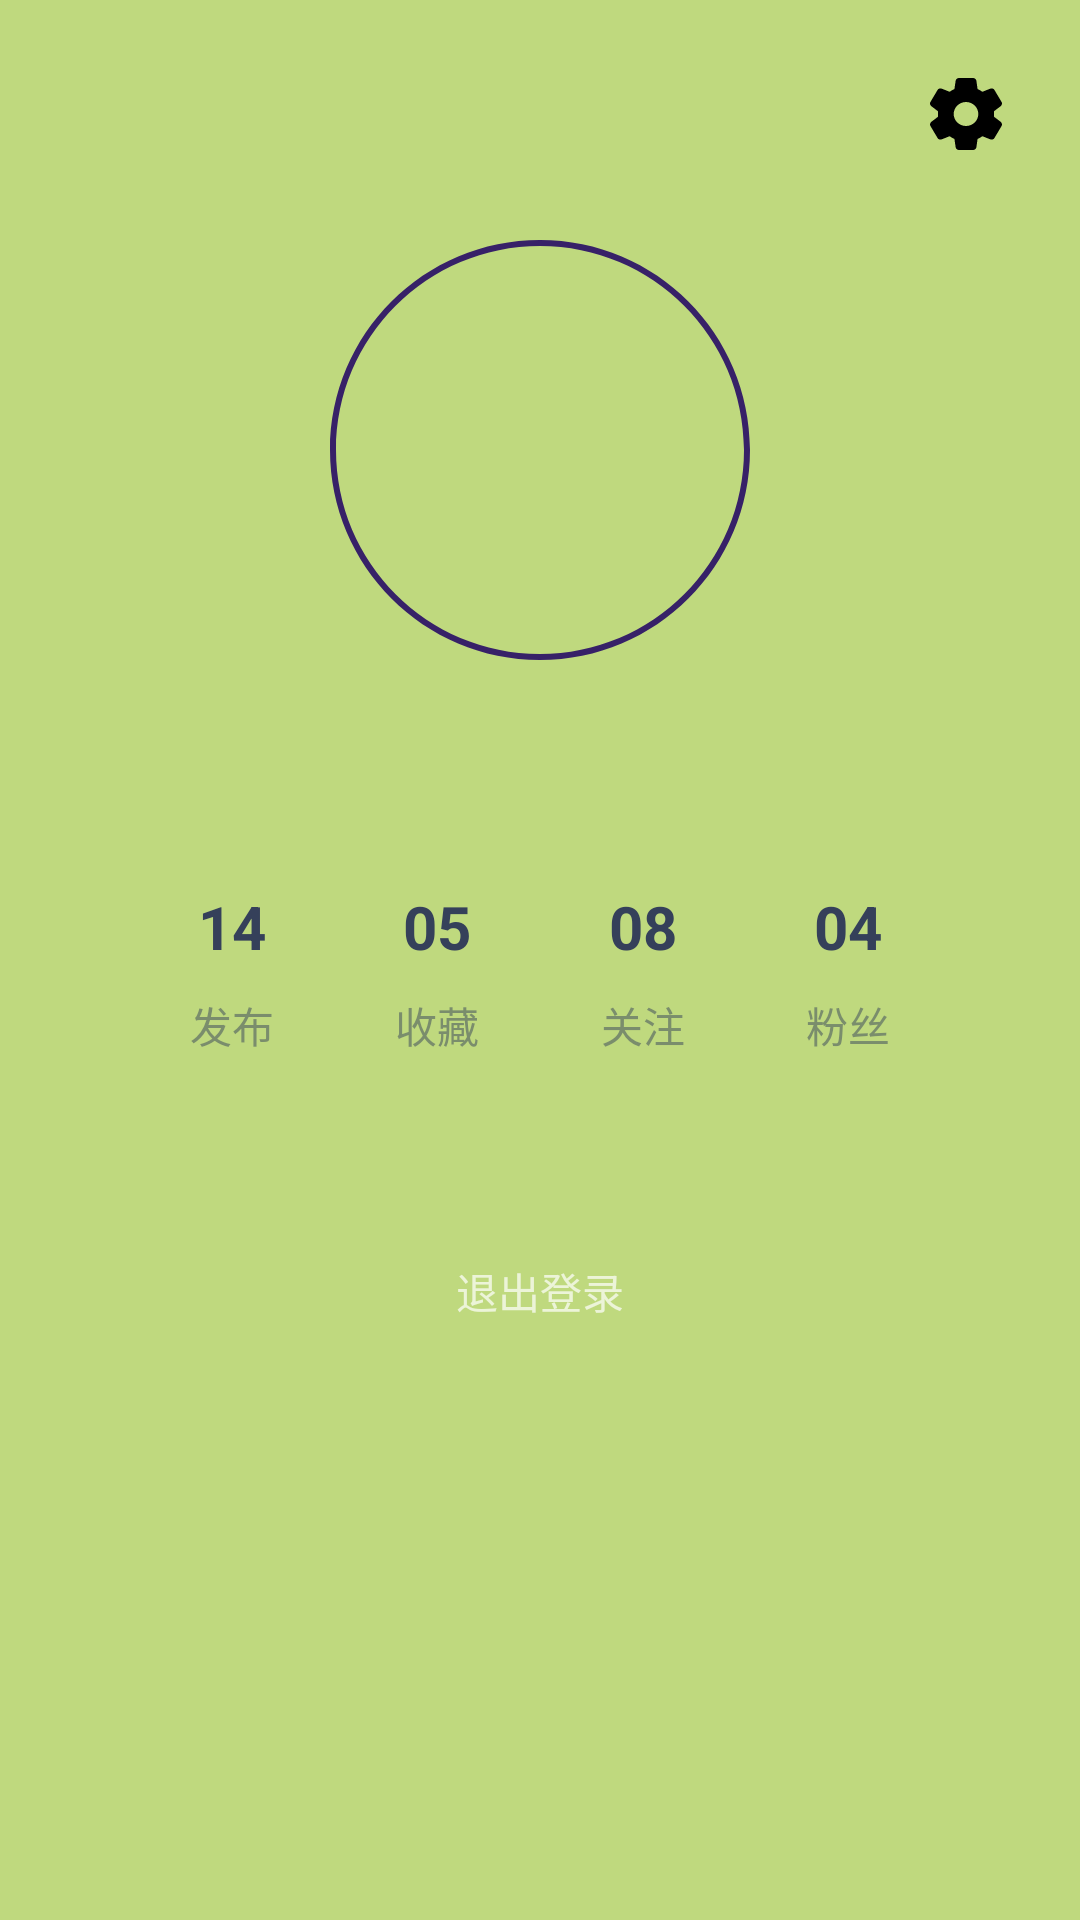

Screen size 1080w x 1920h. Icon name, then its box in pixels as box(x1, y1, x2, y2):
settings: box(930, 78, 1002, 150)
